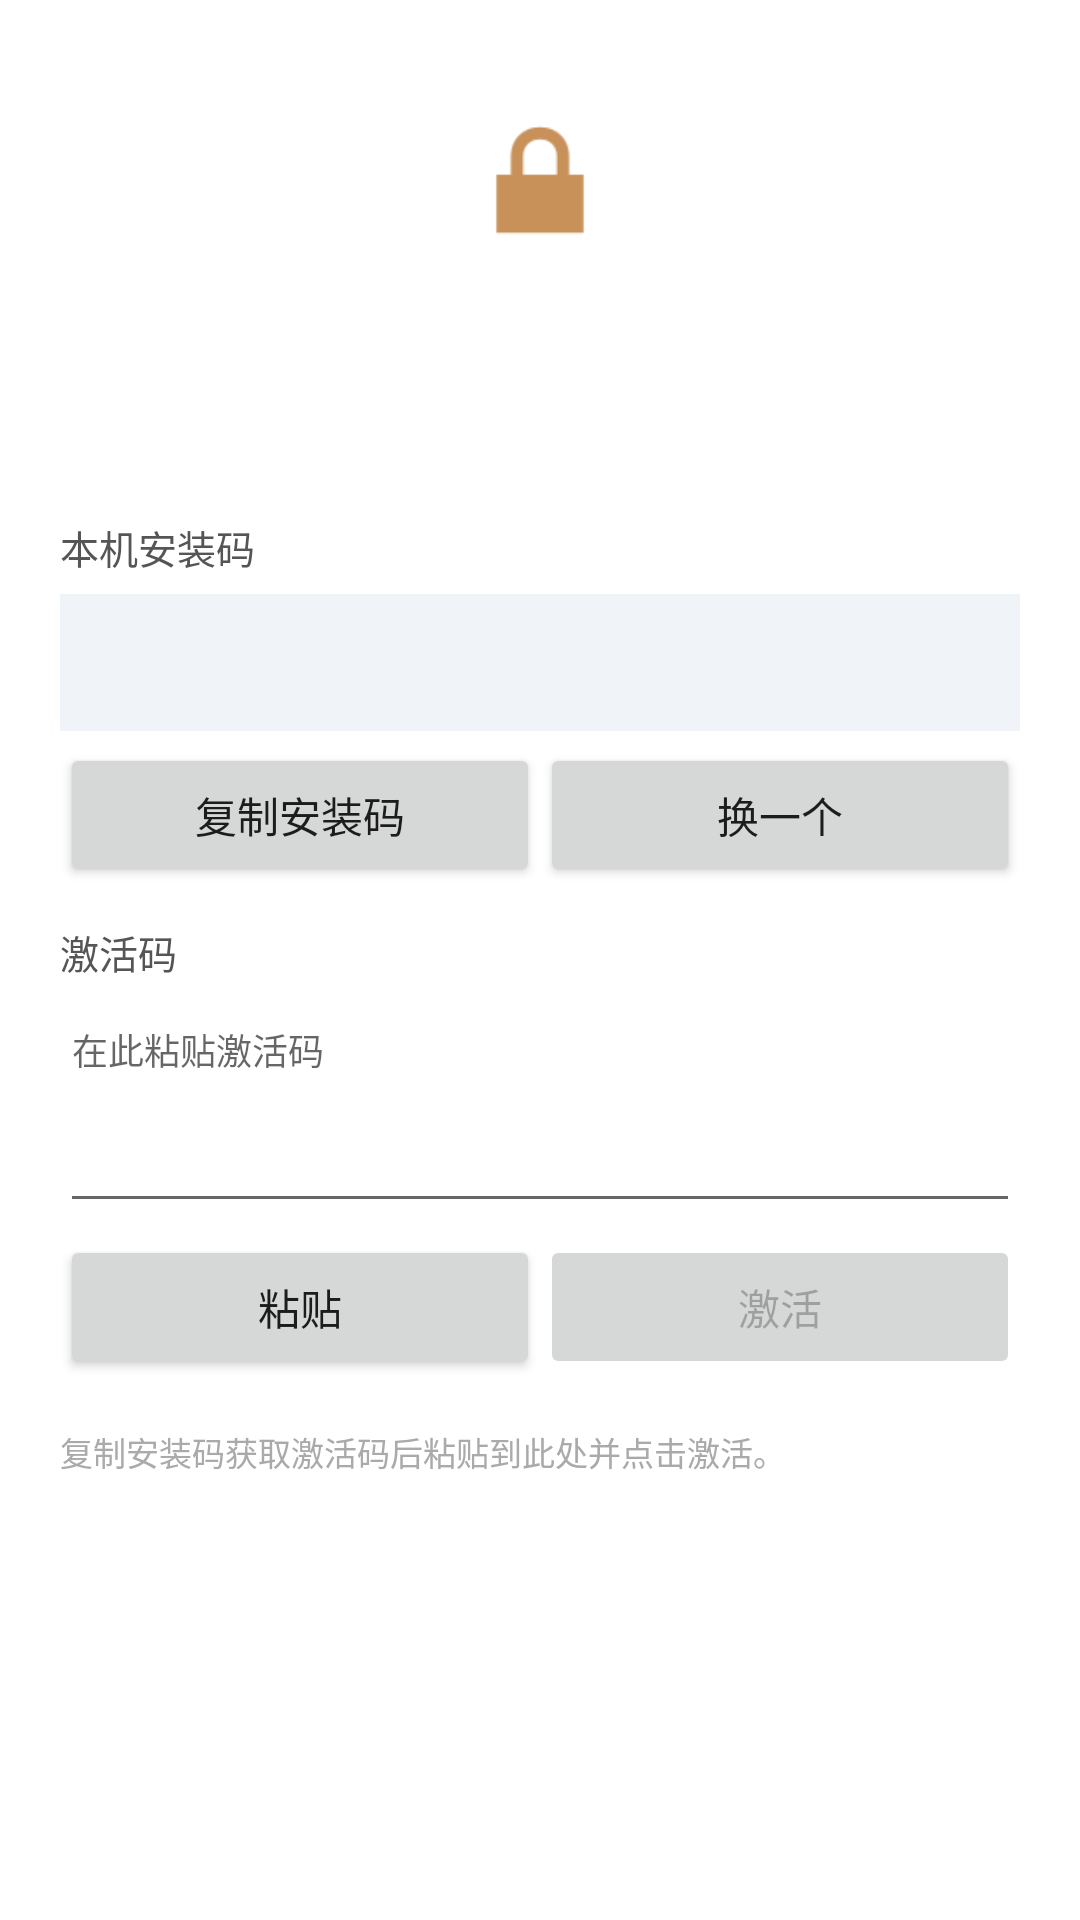

Point at icon controls on the screen. Image size 1080px×1920px, points as (x=x, y=y).
lock: (x=540, y=180)
